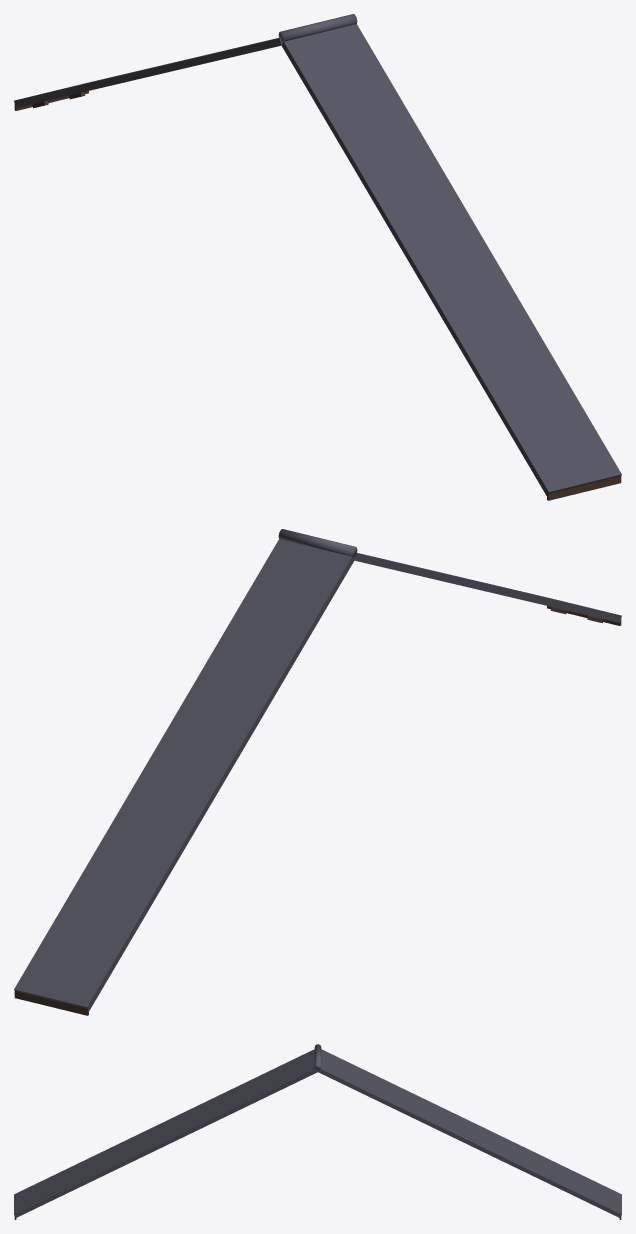
The model's file is kit_timber_slate_w12.glb.
3 renders of one model, top to bottom at view 1: azimuth 30°, elevation 25°; view 2: azimuth 150°, elevation 25°; view 3: azimuth 270°, elevation 25°, orthographic. The views are drawn at different scales.
Parts seen in each view (by area): view 1: kit_timber_slate_w12; view 2: kit_timber_slate_w12; view 3: kit_timber_slate_w12.
Boxes of the visible parts, x1=… form: kit_timber_slate_w12: x1=14, y1=14, x2=621, y2=500; kit_timber_slate_w12: x1=14, y1=529, x2=621, y2=1015; kit_timber_slate_w12: x1=14, y1=1044, x2=621, y2=1219.
Size of the model in its own units: 1 by 3.59 by 12.68.
